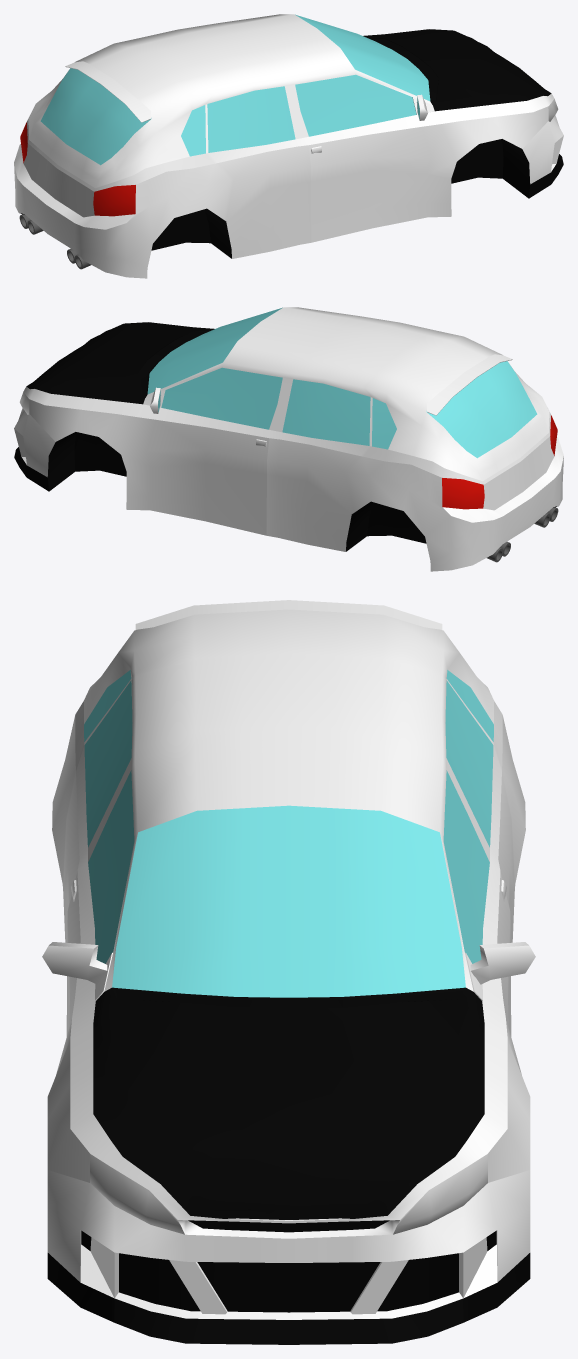
Rendered from Gc14_Body_2.fbx.
3 views of the same model, one above another, from view 1: azimuth 30°, elevation 25°; view 2: azimuth 150°, elevation 25°; view 3: azimuth 270°, elevation 25° (orthographic). The views are drawn at different scales.
Parts seen in each view (by area): view 1: Cube; view 2: Cube; view 3: Cube.
Boxes of the visible parts, box(x1,y1,x2,y2) form: Cube: box(14, 14, 563, 278); Cube: box(14, 307, 563, 571); Cube: box(42, 600, 535, 1344).
Bounding box in the file's own units: 332 × 110 × 145.
